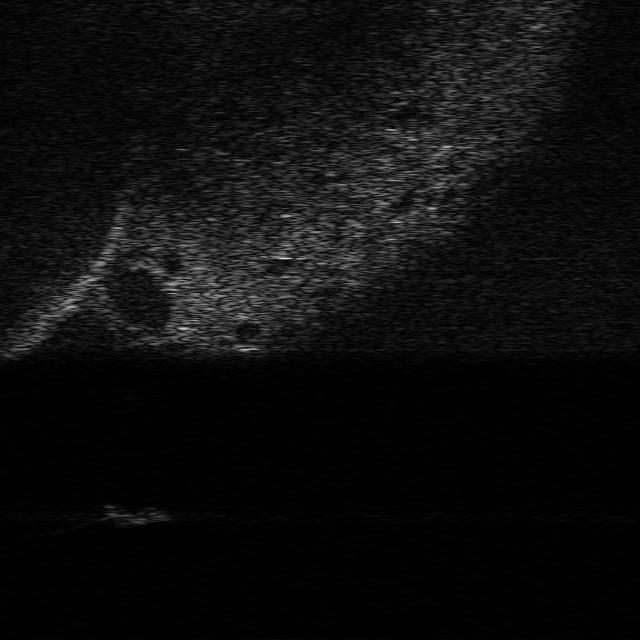cube: (100, 502, 169, 530)
